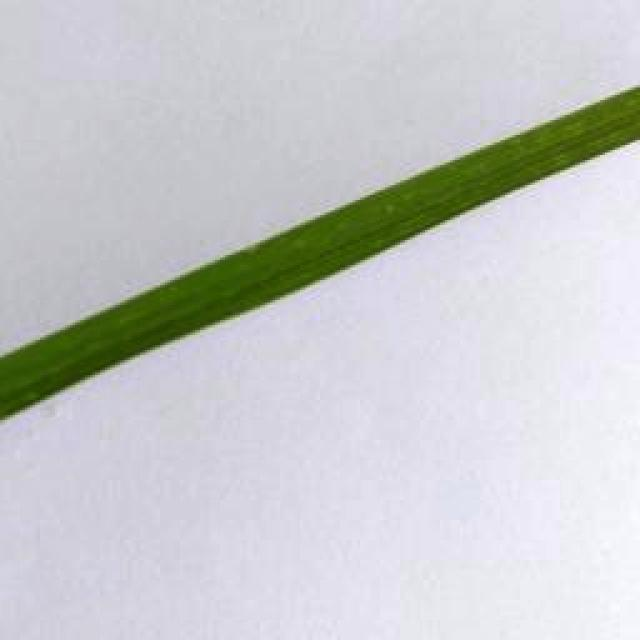Healthy: (0, 86, 640, 421)
